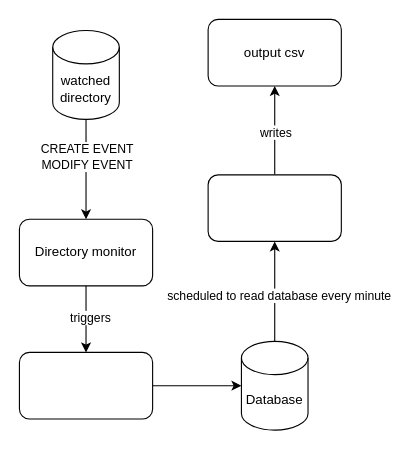
Image size: 410x450. Some labels were removed from this diagram. Here are the shapes that lost their labels. From the top down, the centre of each, then its label:
the point at 274,207: Aggregate batch job
the point at 85,385: CSV Ingest Batch Job
